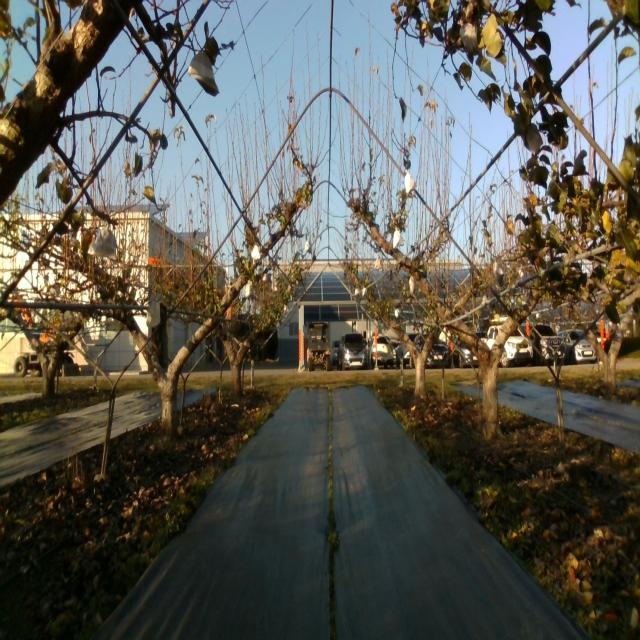pearbags: (187, 48, 219, 95), (89, 226, 119, 260), (524, 122, 544, 156), (460, 22, 477, 52), (492, 262, 506, 286), (404, 170, 417, 194)
